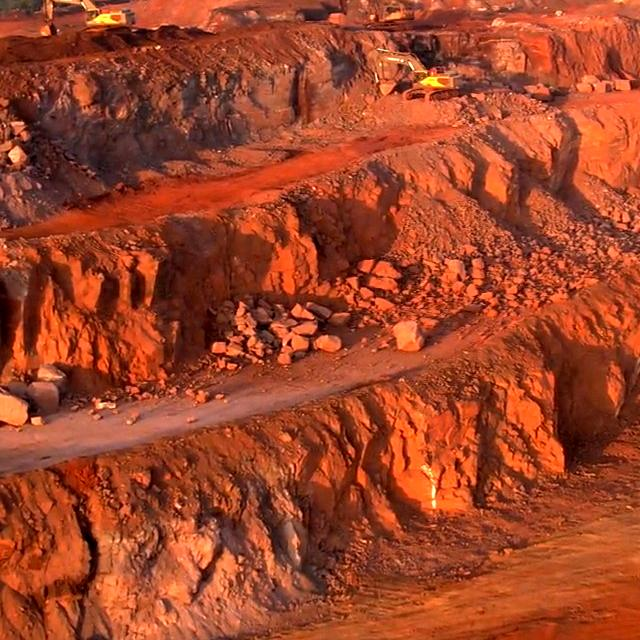Excavator: (76, 5, 139, 46), (404, 67, 462, 101)
